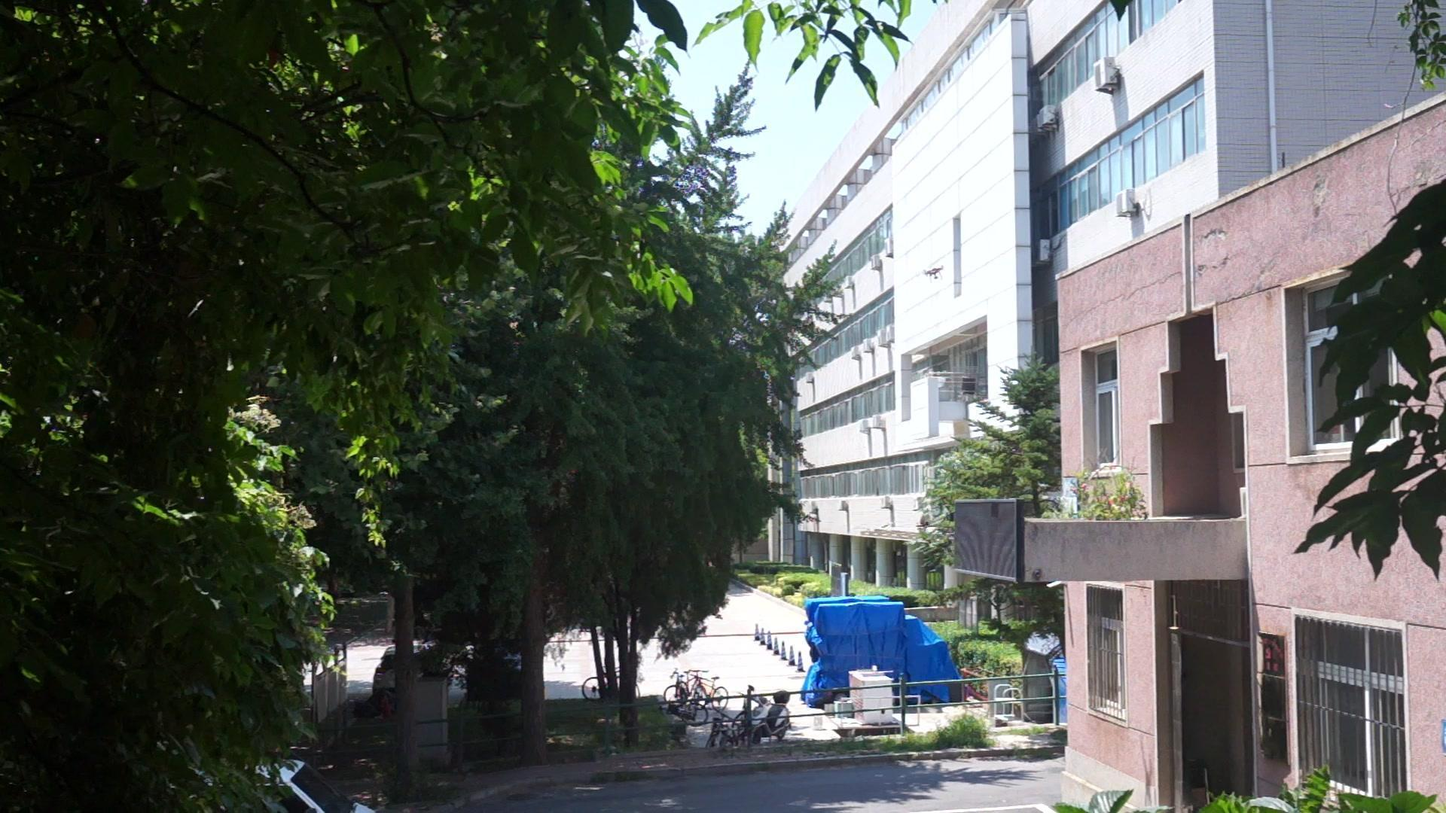UAV: (917, 266, 946, 284)
